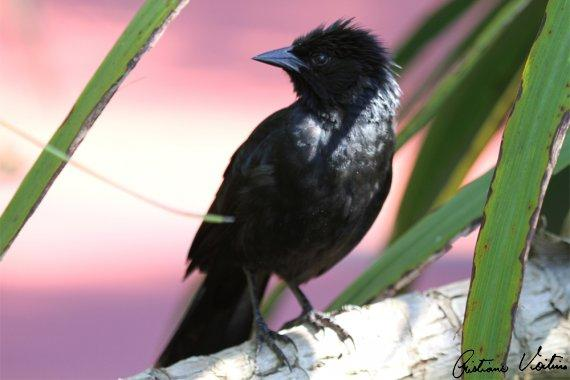grauna: (149, 18, 404, 373)
